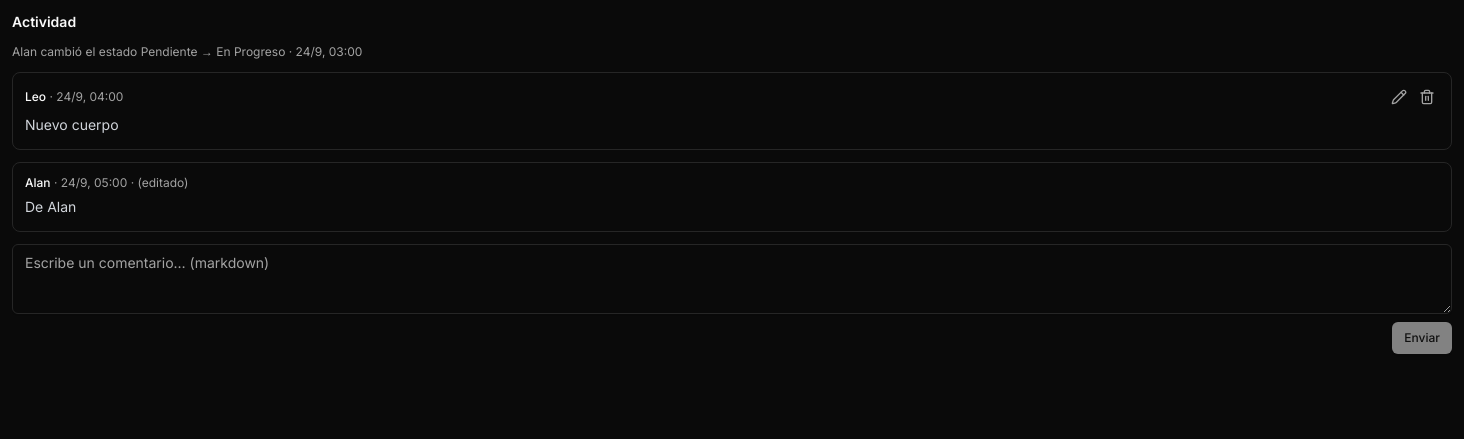
it: TaskActivity › resyncs the edit draft when the comment body changes while not editing
Click the button named "Editar comentario" at (1399, 97), box [1387,85,1411,109]
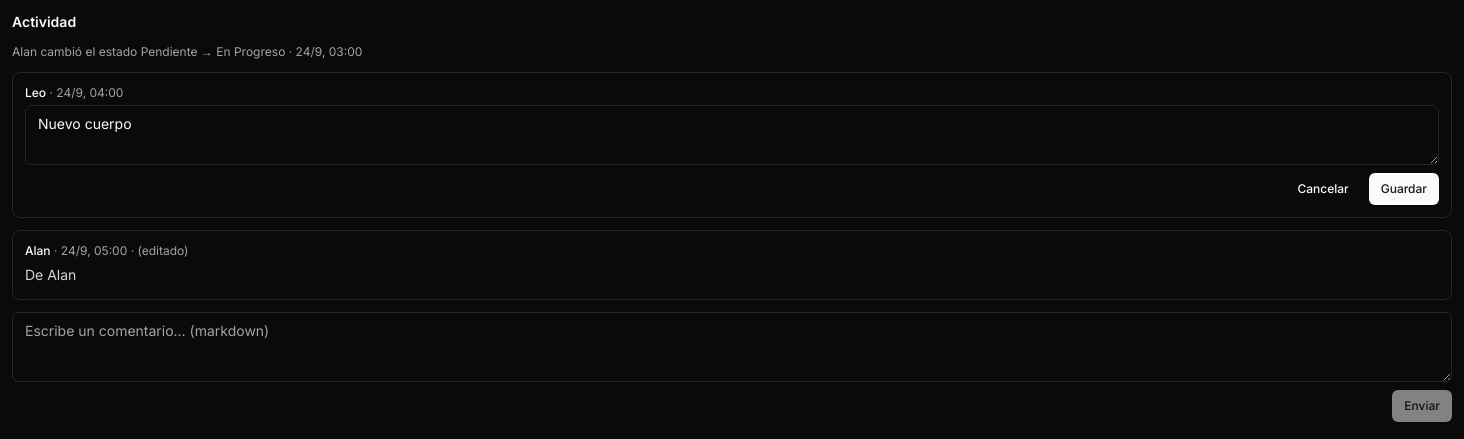
Check: the text box named "Texto del comentario" holds "Nuevo cuerpo", box [25,105,1439,165]
